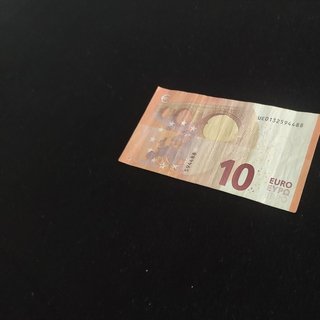10EUROBack: (117, 85, 320, 212)
